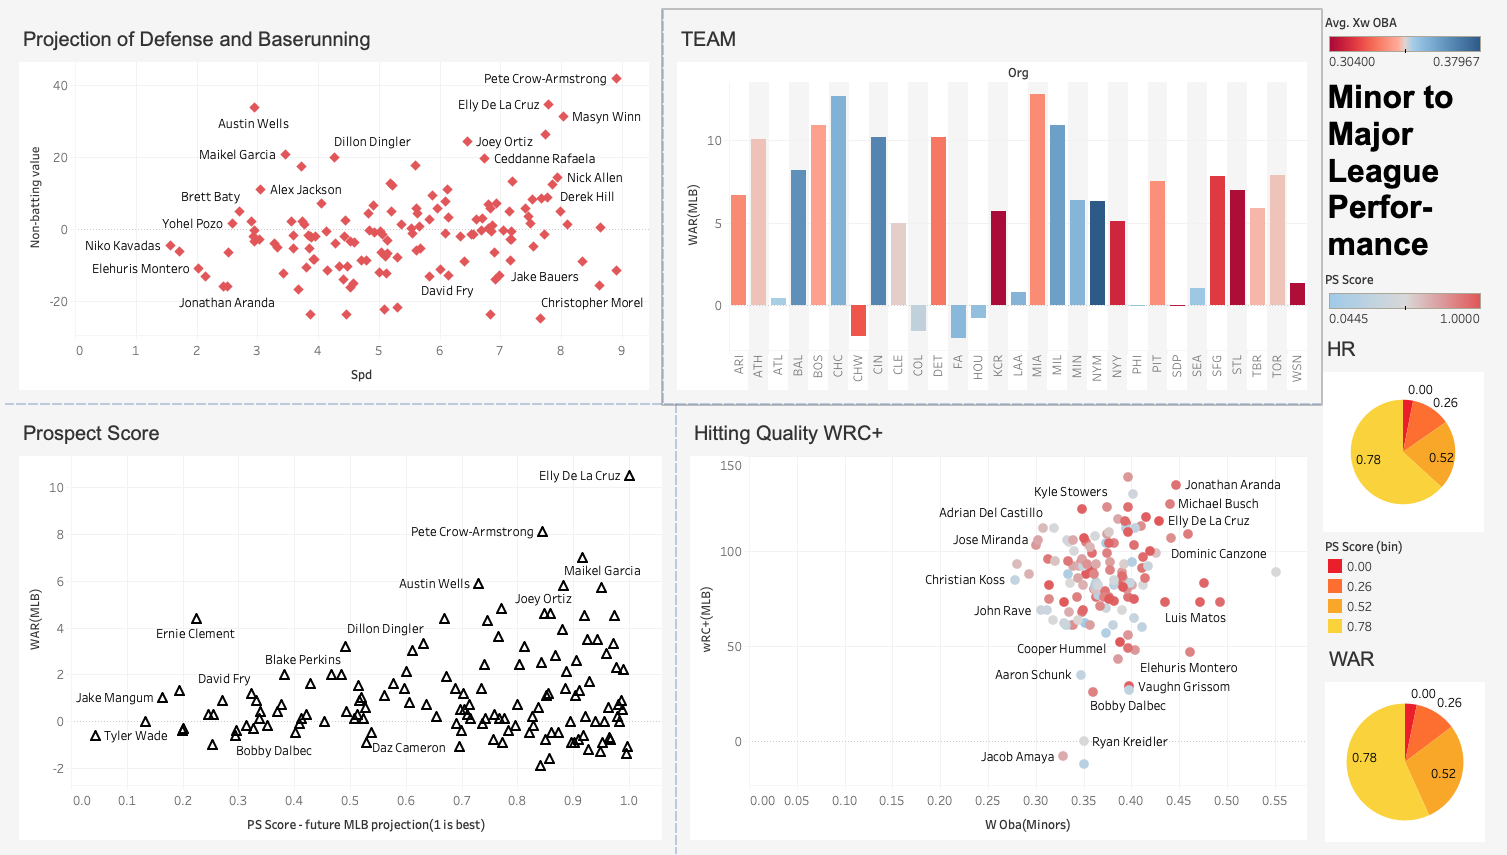

What the dashboard file says about the page in this screenshot:
{"tool":"tableau","page":{"name":"Graphs","canvas":[1000,1000],"units":"permille","ordinal":0},"visuals":[{"type":"worksheet","title":"Speed","mark":"Automatic","rows":["Calculation_1481051007258472448"],"cols":["Spd"],"box":[5.3,9.3,438.7,458.1]},{"type":"worksheet","title":"TEAM","mark":"Automatic","rows":["WAR"],"cols":["Org"],"box":[444,9.3,438.7,458.1]},{"type":"legend","title":"TEAM","param":"[federated.0dsbqr51tlhhus19320pd06ygyor].[sum:xwOBA:qk]","box":[882.7,9.3,112,75.6]},{"type":"text","box":[882.7,84.9,112,223.2]},{"type":"legend","title":"WRC+","param":"[federated.0dsbqr51tlhhus19320pd06ygyor].[sum:PS Score:qk]","box":[882.7,308.1,112,75.6]},{"type":"worksheet","title":"HR","mark":"Pie","box":[882.7,383.7,112,244.2]},{"type":"worksheet","title":"PSscore","mark":"Automatic","rows":["WAR"],"cols":["PS Score"],"box":[5.3,467.4,447.3,523.3]},{"type":"worksheet","title":"WRC+","mark":"Automatic","rows":["wRC+"],"cols":["wOBA"],"box":[452.7,467.4,430,523.3]},{"type":"legend","title":"HR","param":"[federated.0dsbqr51tlhhus19320pd06ygyor].[none:PS Score (bin):ok]","box":[882.7,627.9,112,123.2]},{"type":"worksheet","title":"WAR","mark":"Pie","box":[882.7,751.2,112,239.5]}]}

Visuals, with their boxes on the dashboard's canvas, which has no fixed pixel size, in thousandths of its width and height (x1, y1, x2, y2). These are canvas units, not pixel positions in the 1507x855 screenshot, which may show the page scaled, cropped or inside an application window:
"Speed" worksheet: locate(5, 9, 444, 467)
"TEAM" worksheet: locate(444, 9, 883, 467)
"TEAM" legend: locate(883, 9, 995, 85)
text: locate(883, 85, 995, 308)
"WRC+" legend: locate(883, 308, 995, 384)
"HR" worksheet (Pie marks): locate(883, 384, 995, 628)
"PSscore" worksheet: locate(5, 467, 453, 991)
"WRC+" worksheet: locate(453, 467, 883, 991)
"HR" legend: locate(883, 628, 995, 751)
"WAR" worksheet (Pie marks): locate(883, 751, 995, 991)
